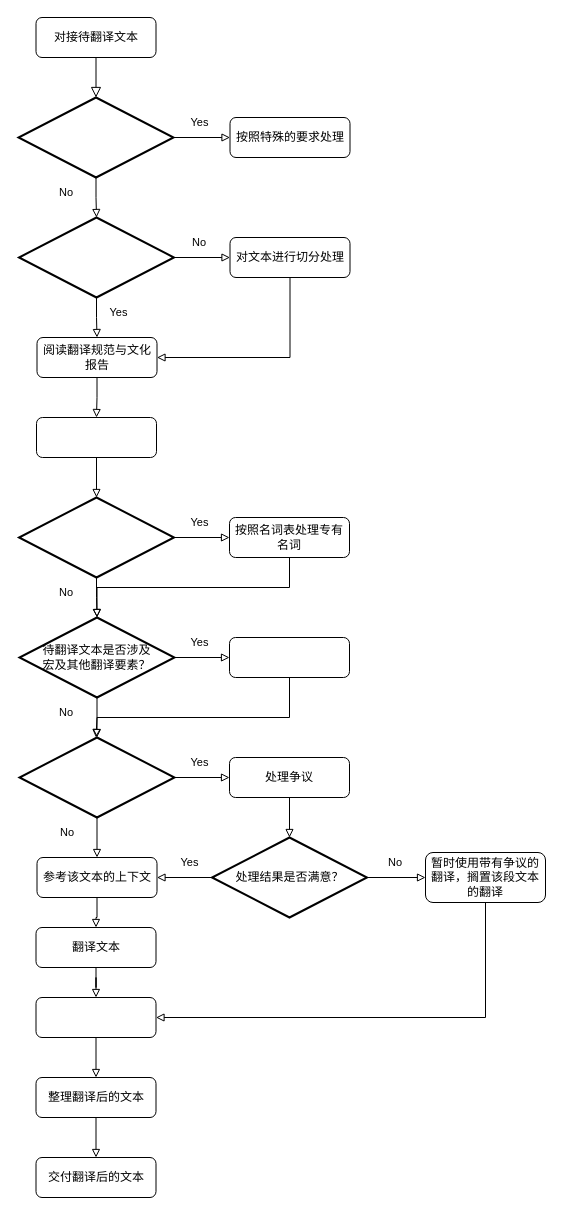
Image size: 563x1215. Some labels were removed from this diagram. The box of each missing label's shape, as (x1, y1, x2, y2) in pixels:
准备翻译工作: (36, 416, 156, 458)
处理宏或其他翻译要素: (228, 636, 350, 678)
对翻译后的文本进行检查: (35, 996, 156, 1038)
待翻译文本是否 出现争议？: (18, 736, 175, 818)
待翻译文本是否有 特殊的翻译要求？: (17, 96, 174, 178)
待翻译文本是否涉及 人名与专有名词？: (18, 496, 174, 578)
文本是否进行了切分？: (18, 216, 174, 298)
